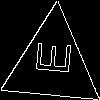E: (27, 38, 71, 76)
